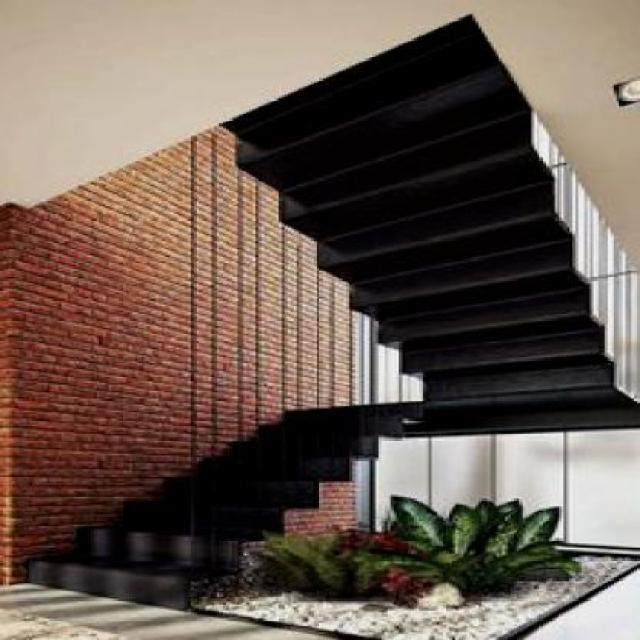stair: (1, 346, 428, 608)
